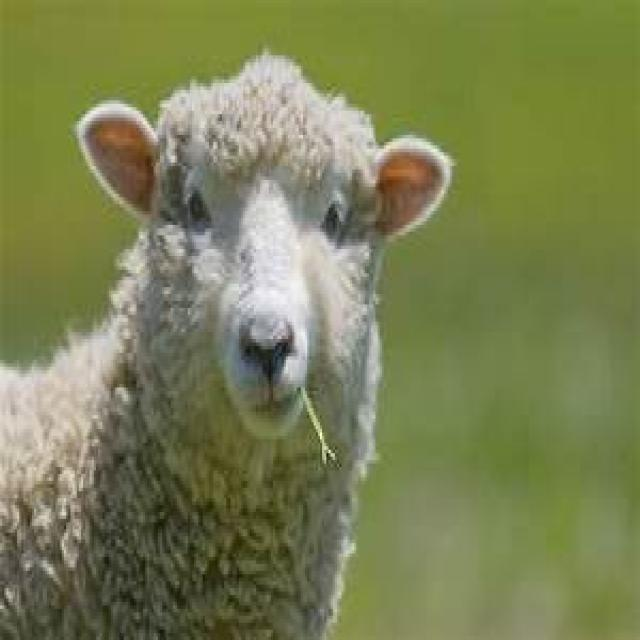sheep: (0, 45, 454, 636)
